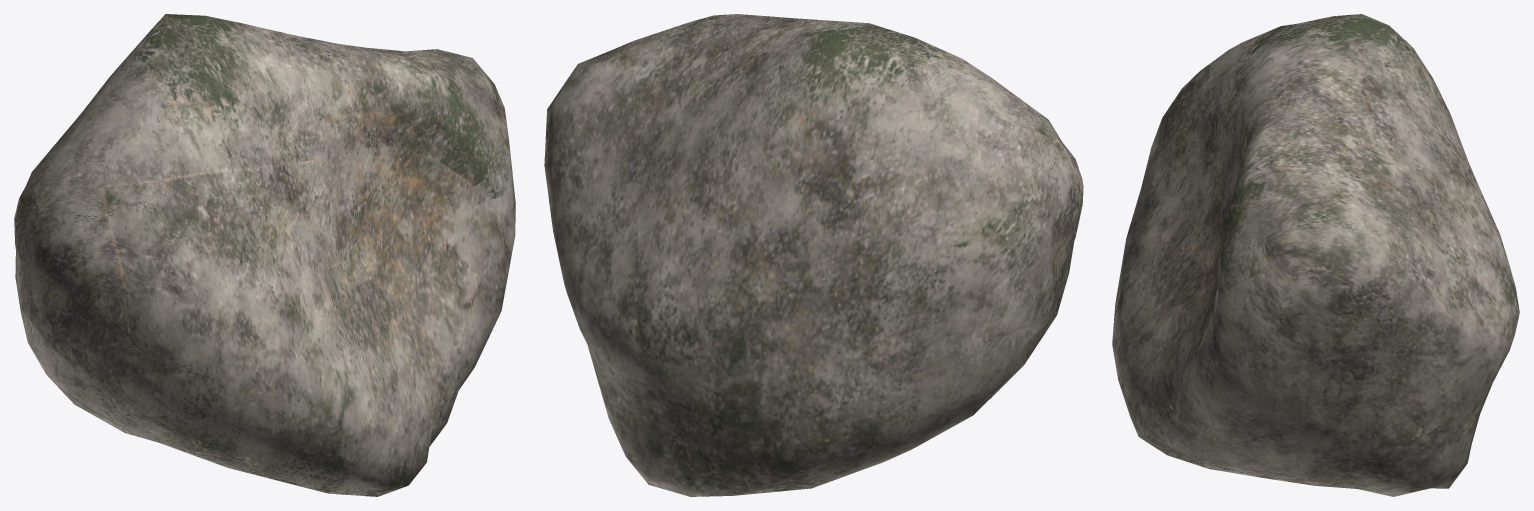
The model's file is rock5.FBX.
3 renders of one model, left to right at view 1: azimuth 30°, elevation 25°; view 2: azimuth 150°, elevation 25°; view 3: azimuth 270°, elevation 25°, orthographic. The views are drawn at different scales.
Parts seen in each view (by area): view 1: rock5; view 2: rock5; view 3: rock5.
Boxes of the visible parts, <box> form: rock5: <box>14,14,515,496</box>; rock5: <box>544,14,1083,496</box>; rock5: <box>1112,14,1519,496</box>.
Size of the model in its own units: 76.27 by 70.01 by 62.37.
